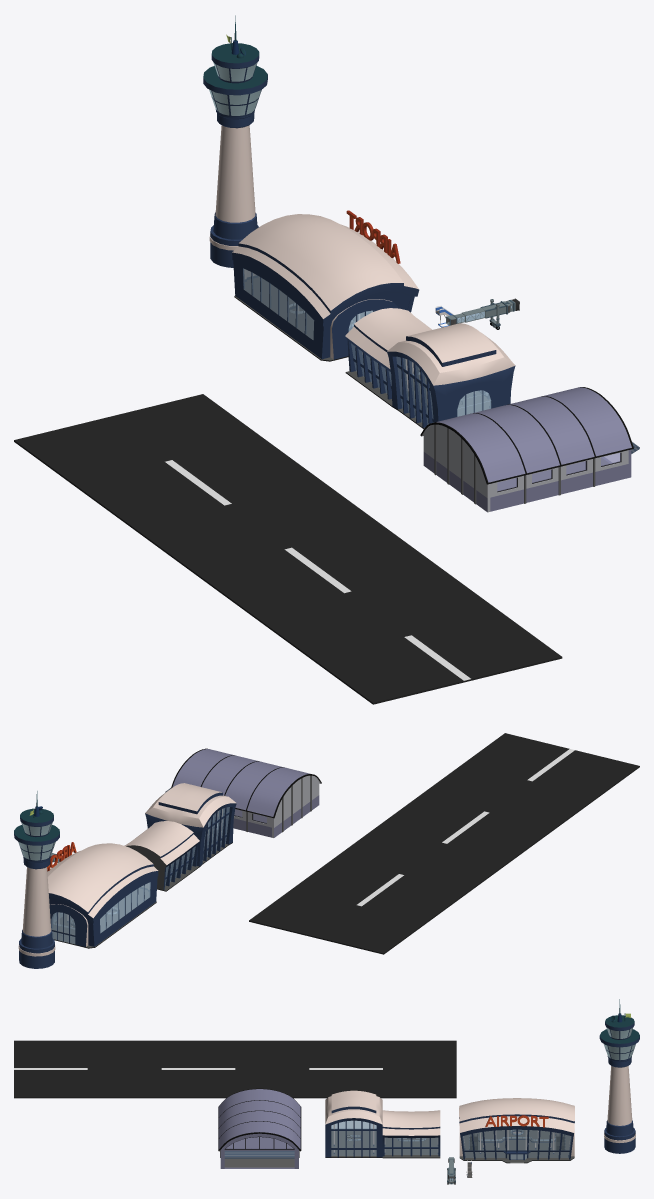
File: airport.glb
3 renders of one model, top to bottom at view 1: azimuth 30°, elevation 25°; view 2: azimuth 150°, elevation 25°; view 3: azimuth 270°, elevation 25°, orthographic. The views are drawn at different scales.
Parts seen in each view (by area): view 1: LandingTrack1Straight, 04_Hangar, 07_Modulo1, 07_Modulo2, 02_ControlTower, 06_Tunnel; view 2: LandingTrack1Straight, 07_Modulo1, 04_Hangar, 07_Modulo2, 02_ControlTower; view 3: LandingTrack1Straight, 07_Modulo1, 07_Modulo2, 04_Hangar, 02_ControlTower.
Boxes of the visible parts, x1=… form: LandingTrack1Straight: x1=14, y1=394, x2=562, y2=704; 04_Hangar: x1=420, y1=387, x2=639, y2=512; 07_Modulo1: x1=232, y1=210, x2=419, y2=361; 07_Modulo2: x1=345, y1=308, x2=515, y2=429; 02_ControlTower: x1=203, y1=15, x2=267, y2=267; 06_Tunnel: x1=446, y1=298, x2=519, y2=329; LandingTrack1Straight: x1=249, y1=733, x2=639, y2=954; 07_Modulo1: x1=47, y1=842, x2=158, y2=948; 04_Hangar: x1=165, y1=748, x2=321, y2=837; 07_Modulo2: x1=124, y1=783, x2=236, y2=891; 02_ControlTower: x1=14, y1=791, x2=59, y2=968; LandingTrack1Straight: x1=14, y1=1040, x2=456, y2=1098; 07_Modulo1: x1=459, y1=1098, x2=574, y2=1163; 07_Modulo2: x1=325, y1=1090, x2=440, y2=1158; 04_Hangar: x1=218, y1=1088, x2=301, y2=1168; 02_ControlTower: x1=599, y1=999, x2=639, y2=1153.
Size of the model in its own units: 18.18 by 8.49 by 32.
Materials: 1 (1 with a texture image).
